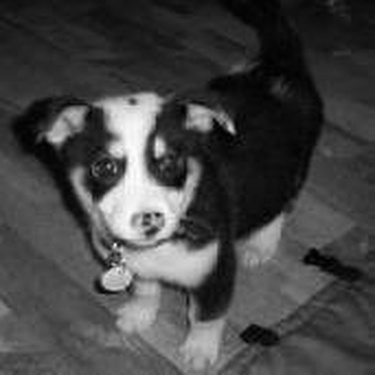dog: (22, 2, 329, 367)
